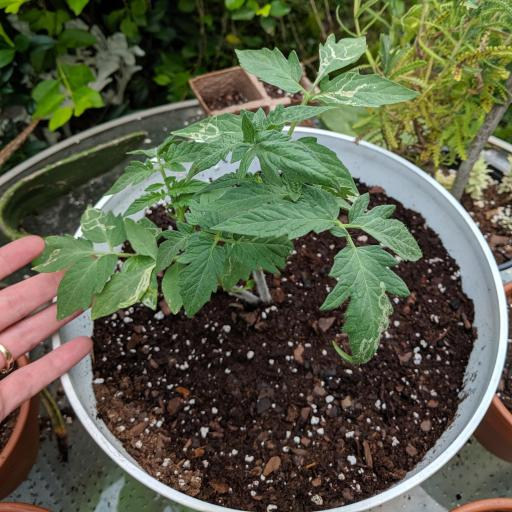Healthy: (229, 110, 342, 193), (210, 182, 340, 240), (348, 191, 424, 262), (196, 171, 300, 213), (56, 253, 118, 321), (177, 234, 226, 318), (234, 48, 304, 94), (156, 219, 200, 274), (102, 158, 154, 196), (123, 188, 166, 219)
Leaf_Miner: (320, 245, 410, 366), (311, 67, 420, 108), (90, 262, 156, 320), (170, 108, 257, 142), (30, 234, 94, 274), (80, 203, 127, 247), (318, 32, 368, 73)
